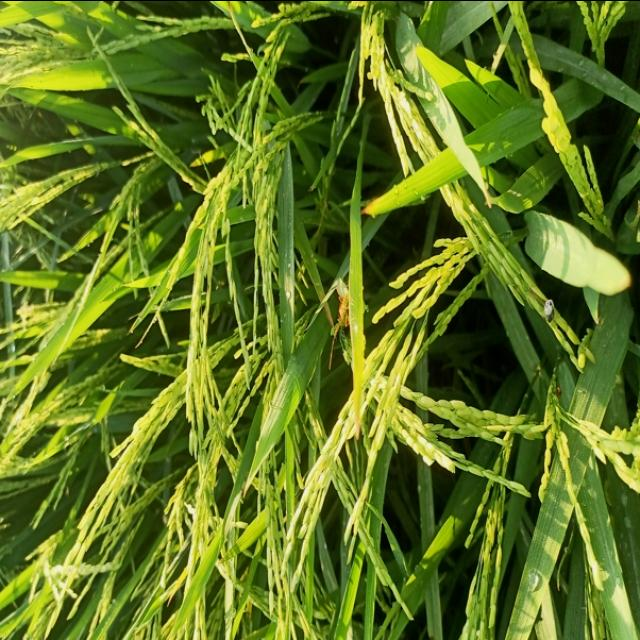Walang Sangit: (323, 271, 358, 370)
